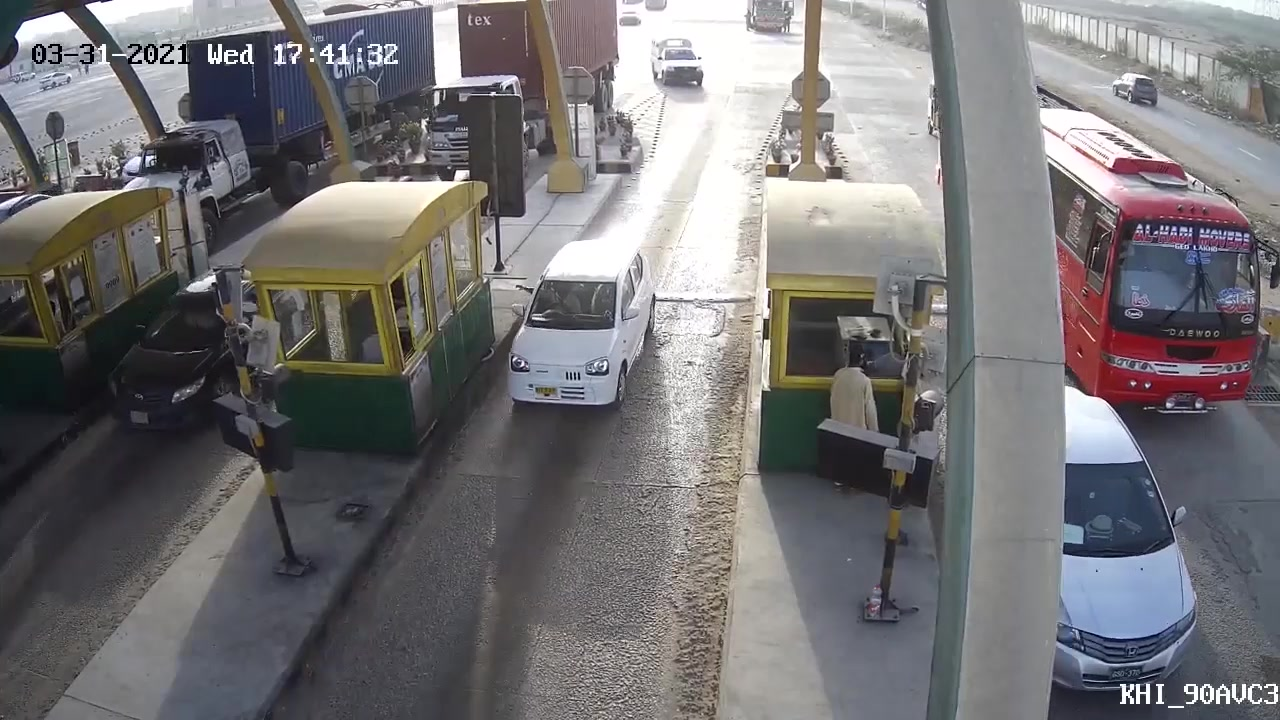F1: (501, 235, 672, 433)
